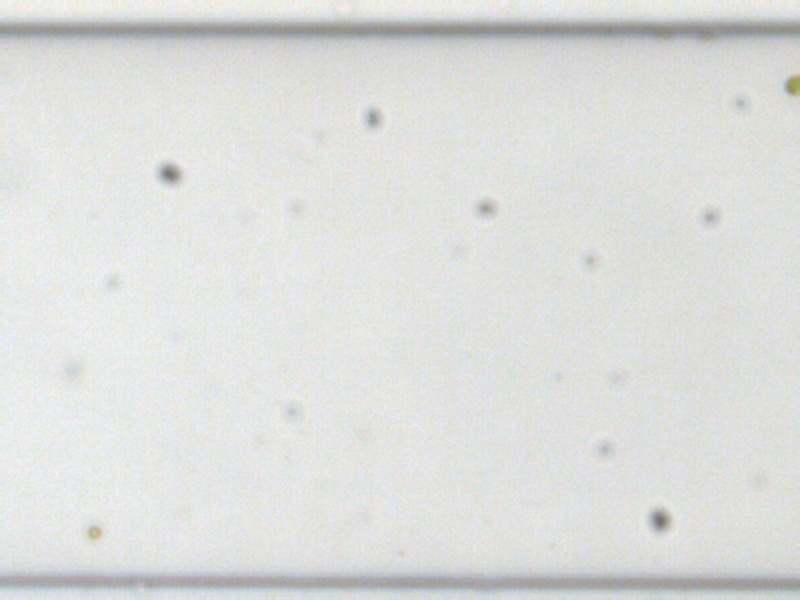Chlorella: (783, 74, 799, 96), (85, 524, 101, 538)
